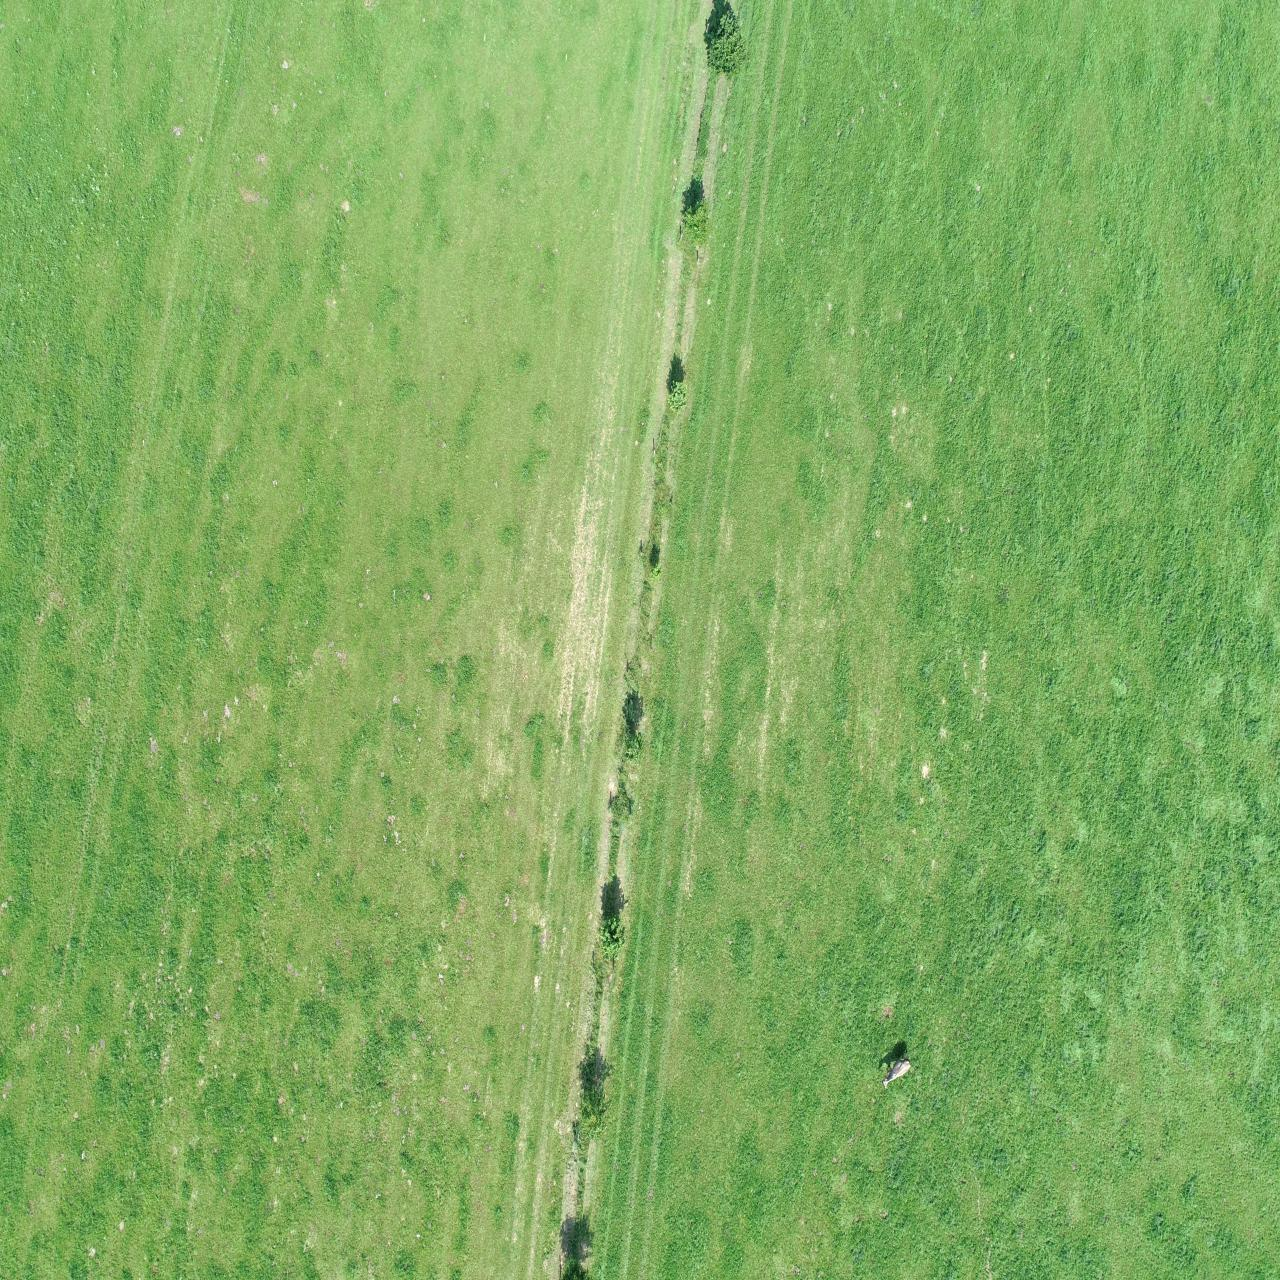cow: (880, 1055, 912, 1089)
